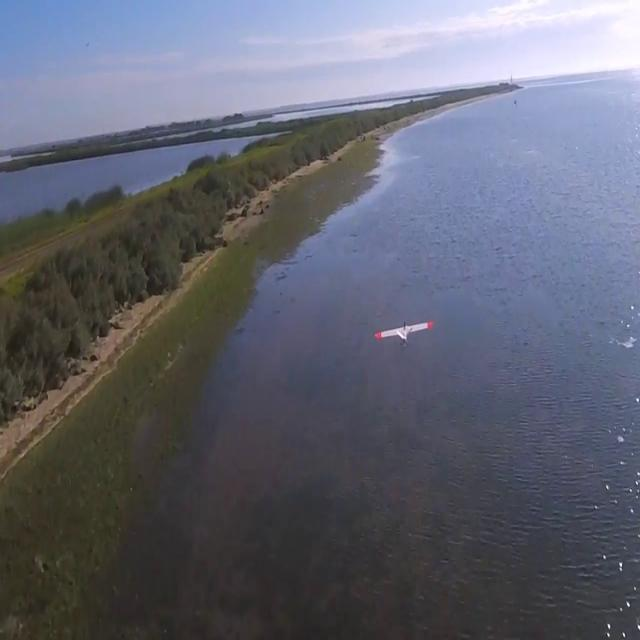iha: (374, 320, 432, 346)
